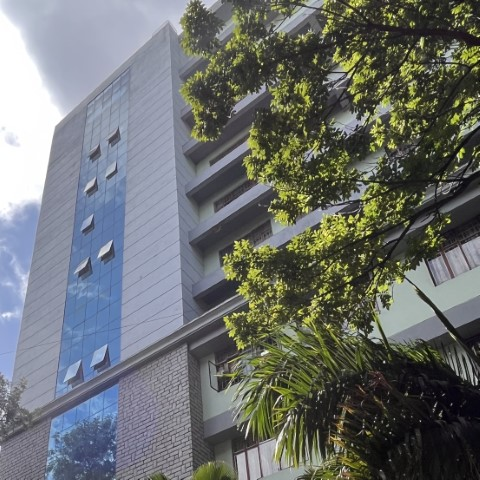Central Block: (35, 46, 249, 480)
